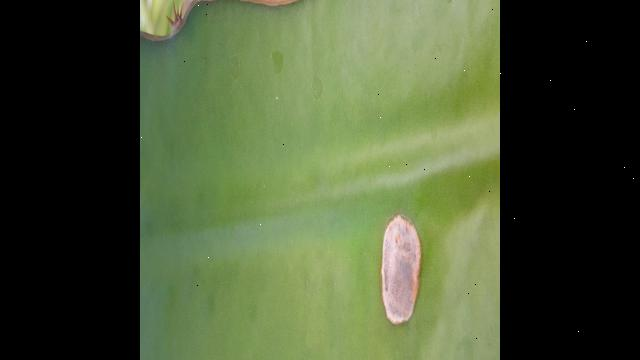stemcanker: (377, 211, 428, 329)
